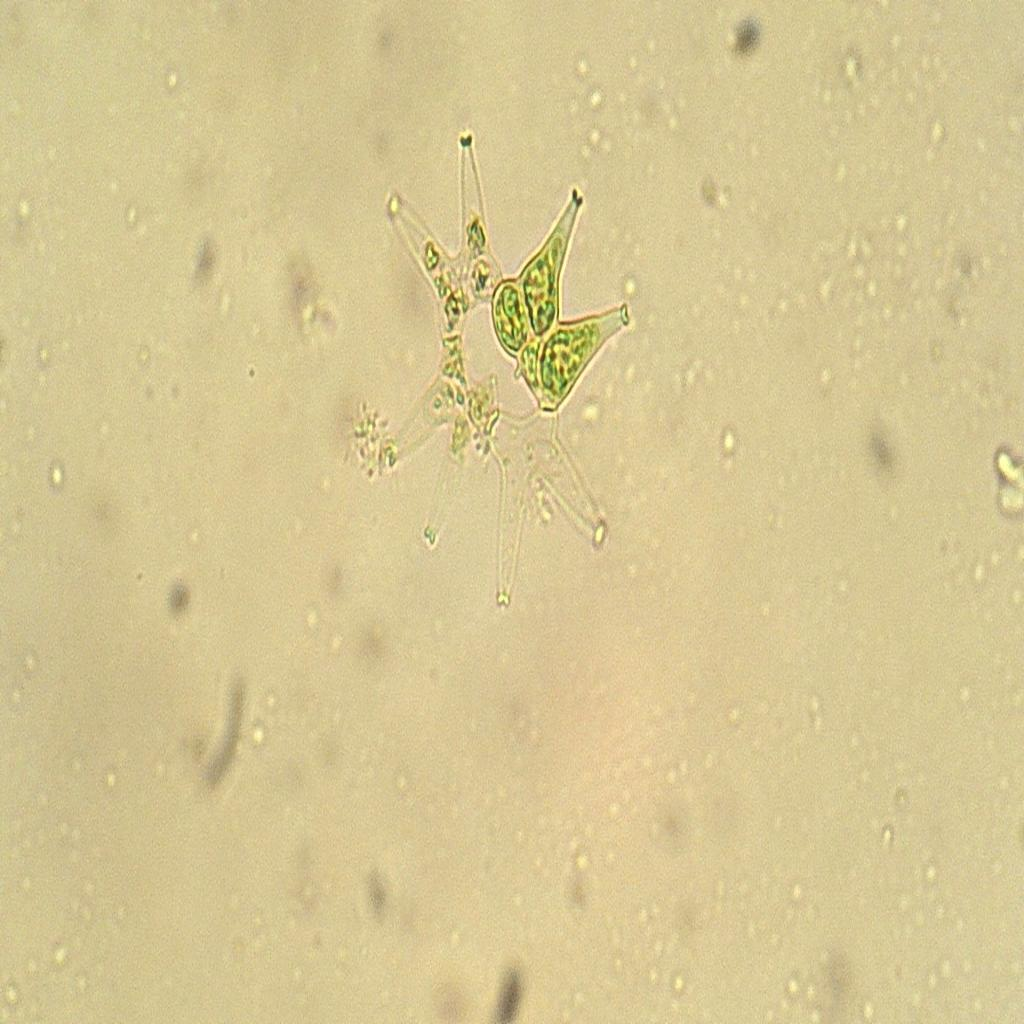Pediastrum_75TH: (346, 115, 650, 642)
